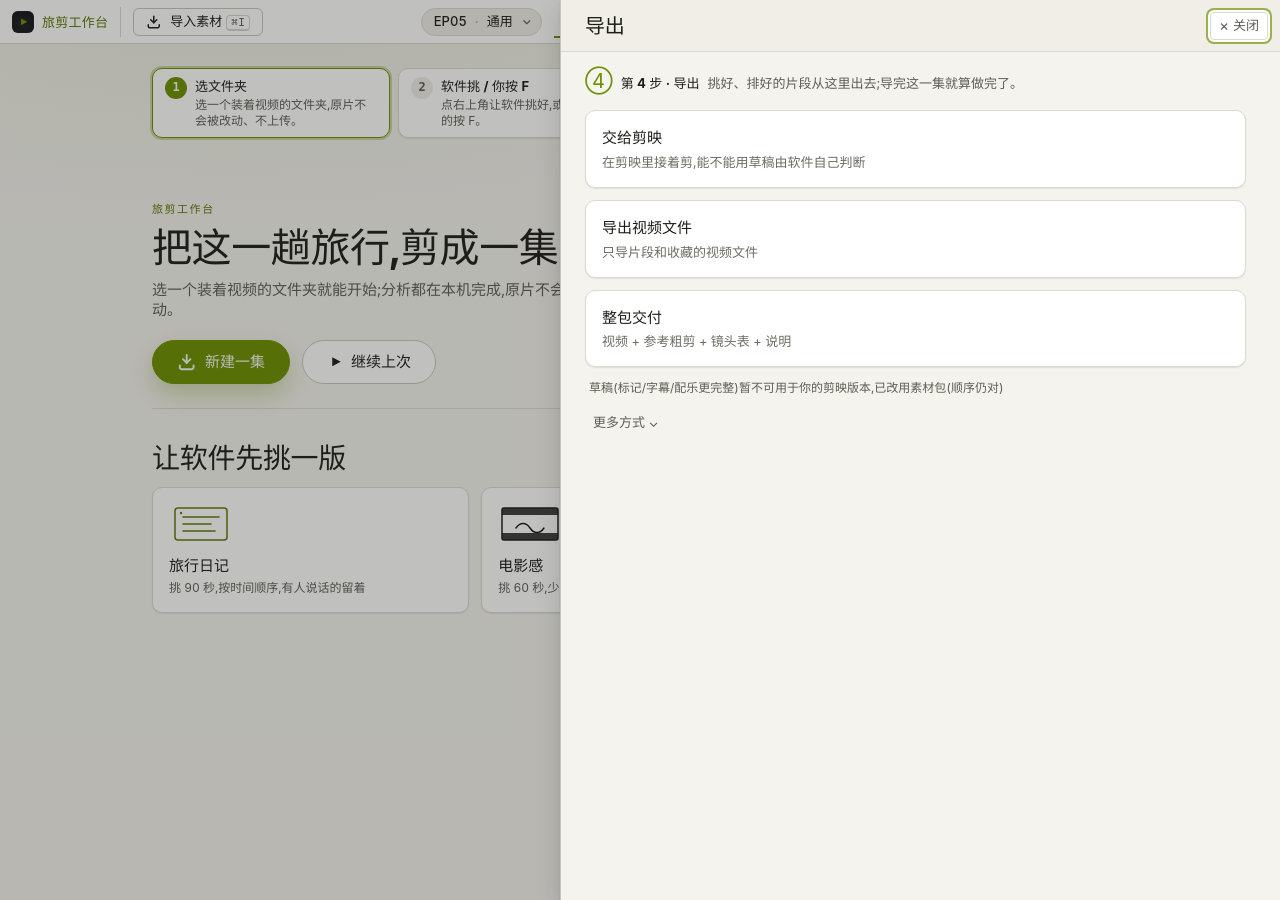
Scenario: R12 §6:导出步(车道 A) › 顶部「第 4 步 · 导出」一句;四枚 chip:剪映草稿 / 剪映素材包 / 导出片段 / 完整交付包;剪映不可用时默认素材包、草稿 chip 可见文案带「(待验证)」+ 一句白话
Expected: the text "第 4 步 · 导出" is shown, [621,74,700,92]
Click the button "更多方式 ⌄": (626, 422) [585,409,667,435]
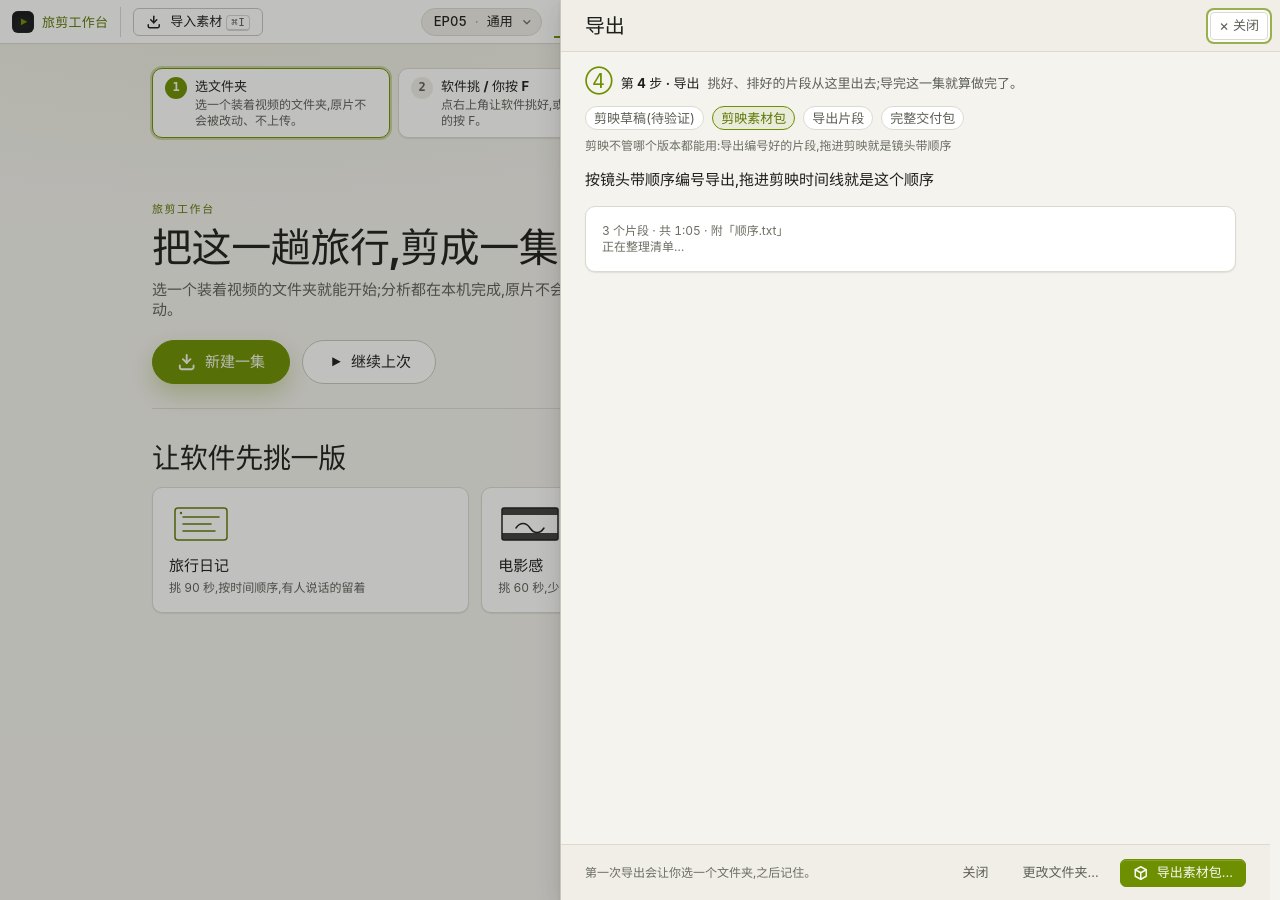
Click the button "导出片段": (838, 118) [803,106,873,130]
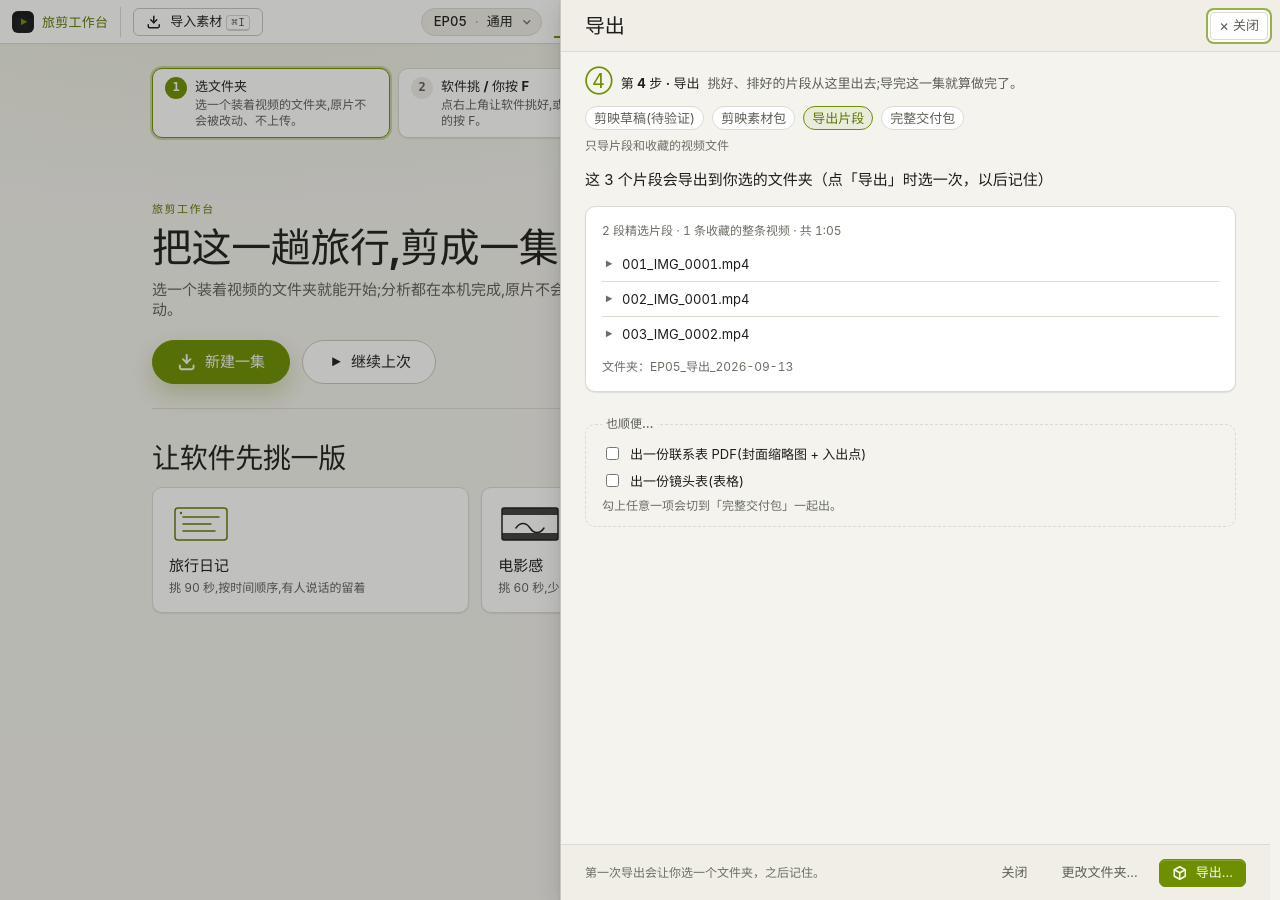
Expected: the button "剪映草稿(待验证)" is shown
Click the button "剪映草稿(待验证)": (645, 118) [585,106,704,130]
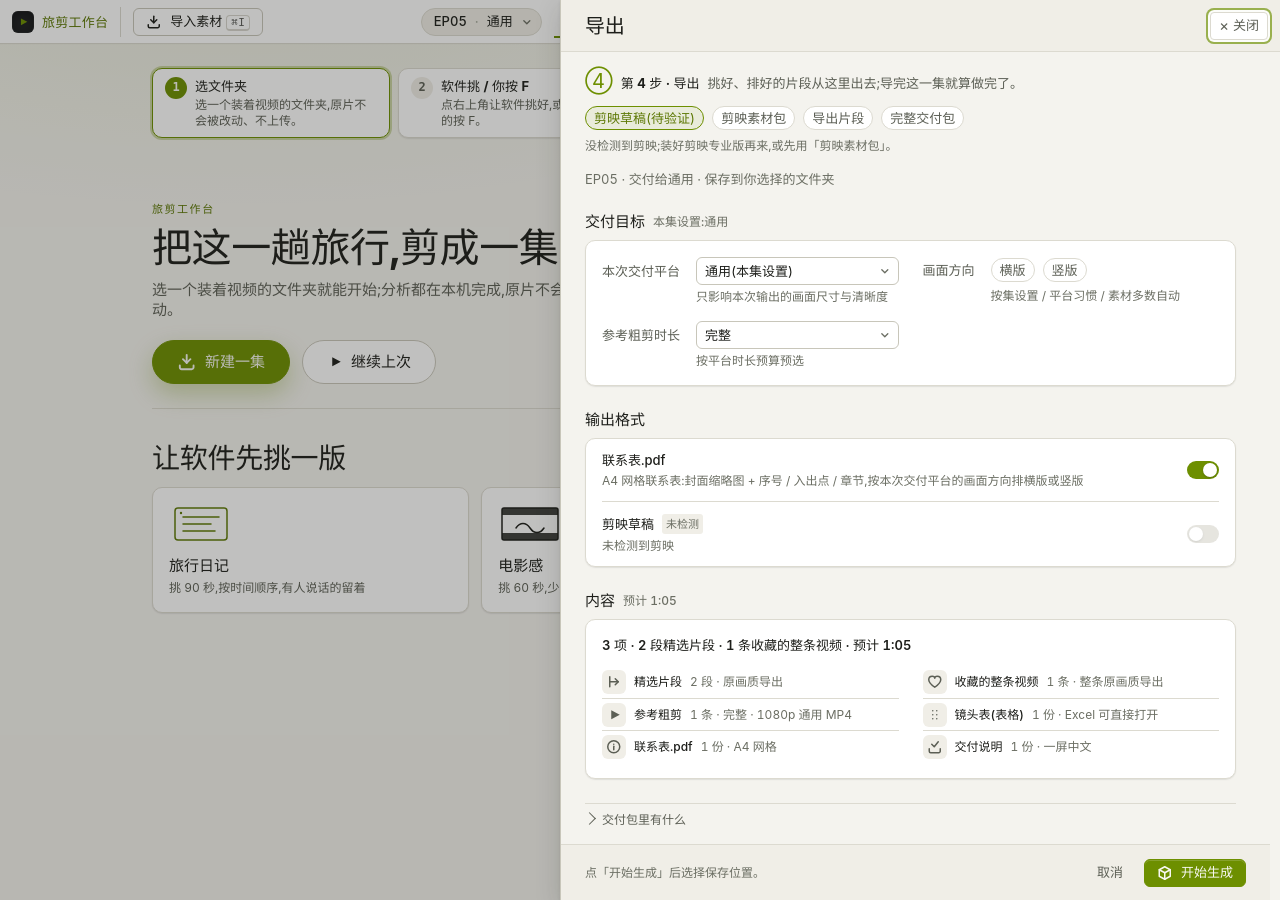
Expected: the text "没检测到剪映;装好剪映专业版再来,或先用「剪映素材包」。" is shown, [585,138,898,153]
Expected: the text "本次交付平台" is shown, [602,262,680,280]
Expected: the button "开始生成" is shown, [1144,858,1246,886]
